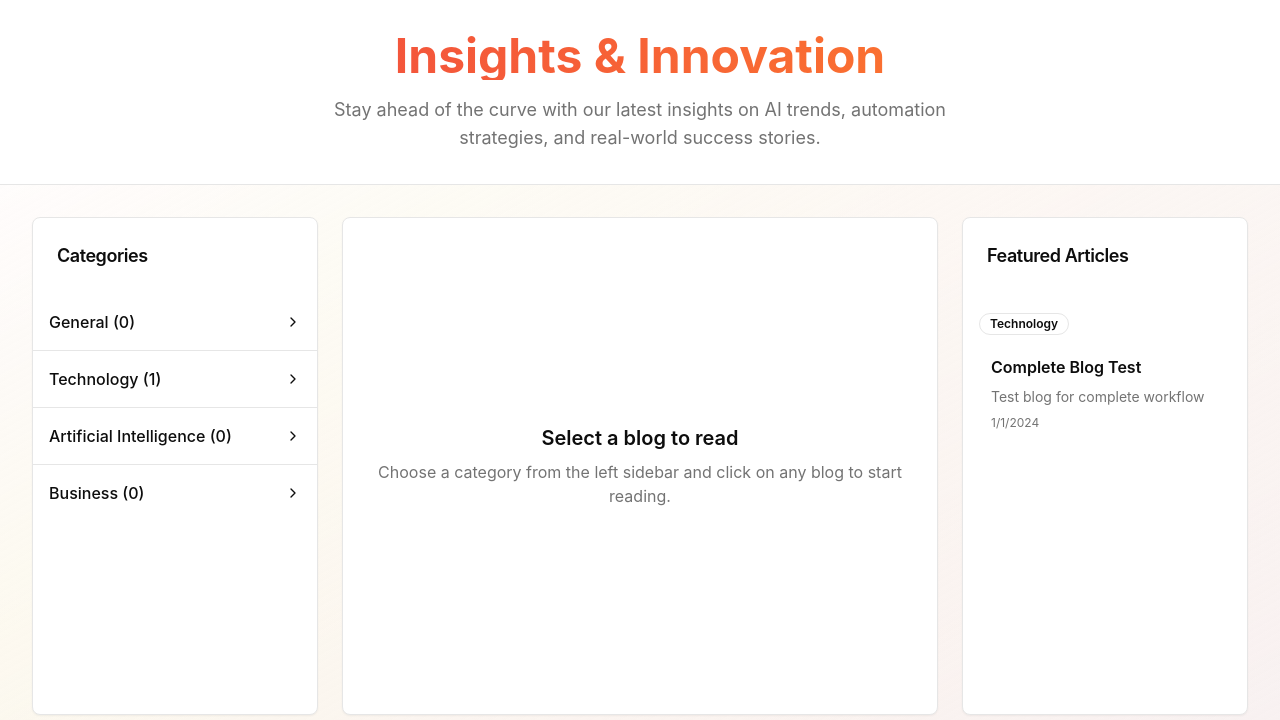
Scenario: Blog System Integration Tests › Blog Rendering and Display › displays blog correctly in Blog page with all layouts
Check: the heading "Categories" is shown, box left=57, top=245, right=148, bottom=266
// Expand technology category
What coordinates should you click on to do the following:
click the button "Technology (1)"
I would click on:
 (94, 379)
Its box is left=33, top=351, right=317, bottom=407.
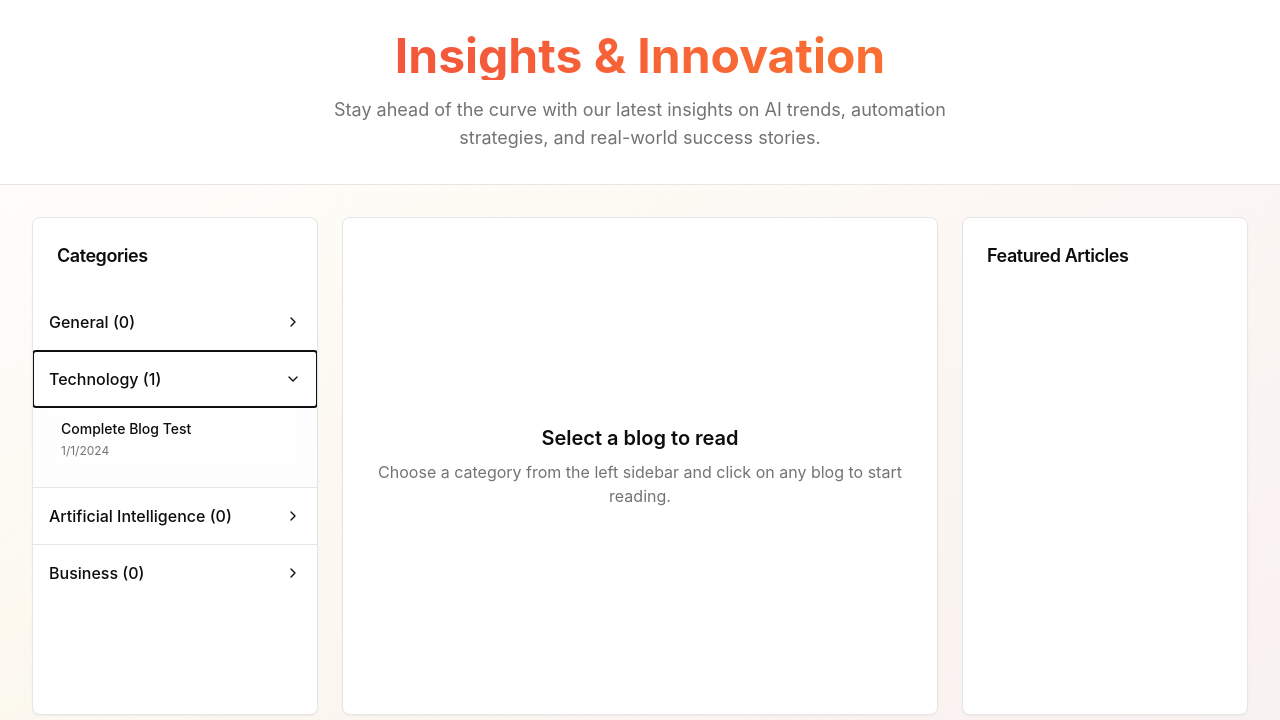
// Select the blog
What coordinates should you click on to do the following:
click the text "Complete Blog Test"
I would click on:
 (126, 428)
Its box is left=61, top=420, right=191, bottom=437.
(page scrolled)
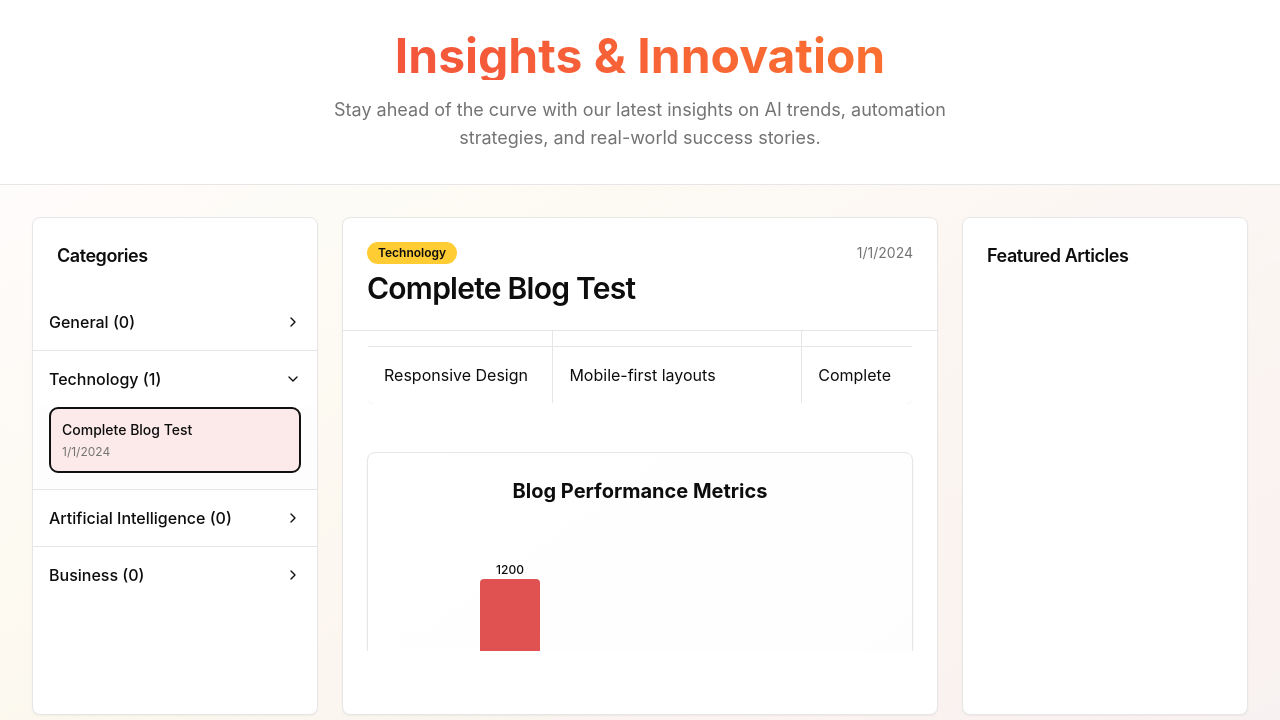
Check: the heading "Blog Performance Metrics" is shown, box left=513, top=478, right=767, bottom=502
